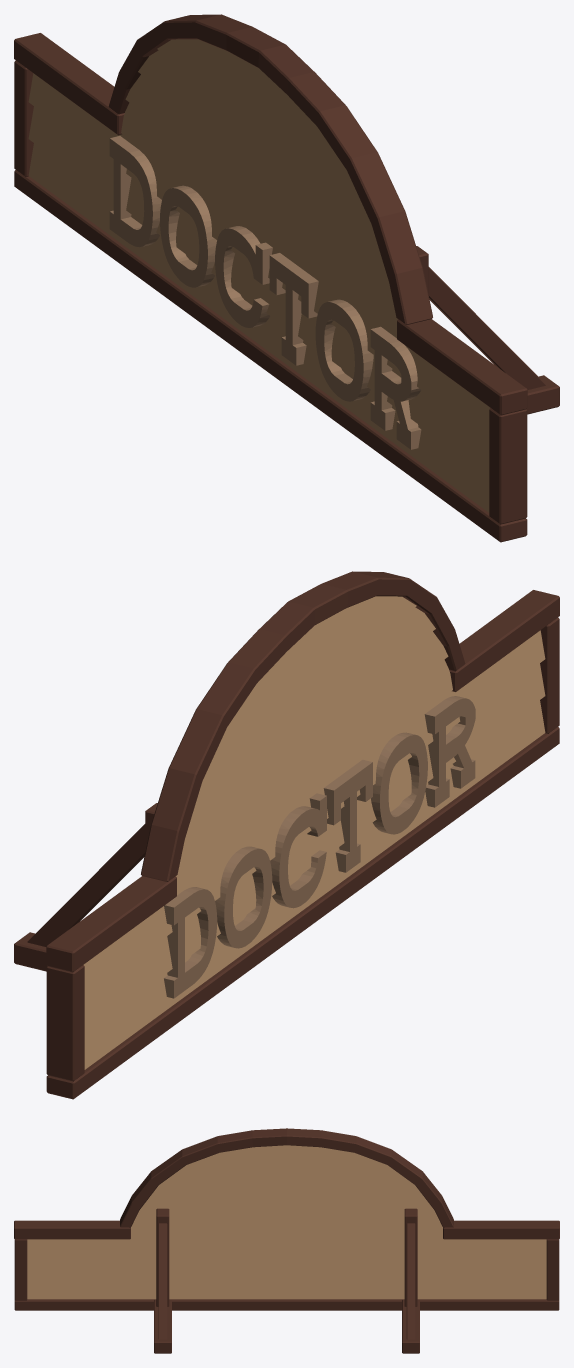
File: doctor-sign-b.glb
3 views of the same model, one above another, from view 1: azimuth 30°, elevation 25°; view 2: azimuth 150°, elevation 25°; view 3: azimuth 270°, elevation 25° (orthographic). The views are drawn at different scales.
Visible parts, largest first — view 1: Doctor Sign B (×3); view 2: Doctor Sign B (×3); view 3: Doctor Sign B (×2).
Boxes of the visible parts, <box> form: Doctor Sign B (×3): <box>14,14,559,542</box>; Doctor Sign B (×3): <box>14,571,559,1099</box>; Doctor Sign B (×2): <box>14,1128,559,1353</box>.
Size of the model in its own units: 1.46 by 2.35 by 6.6.
